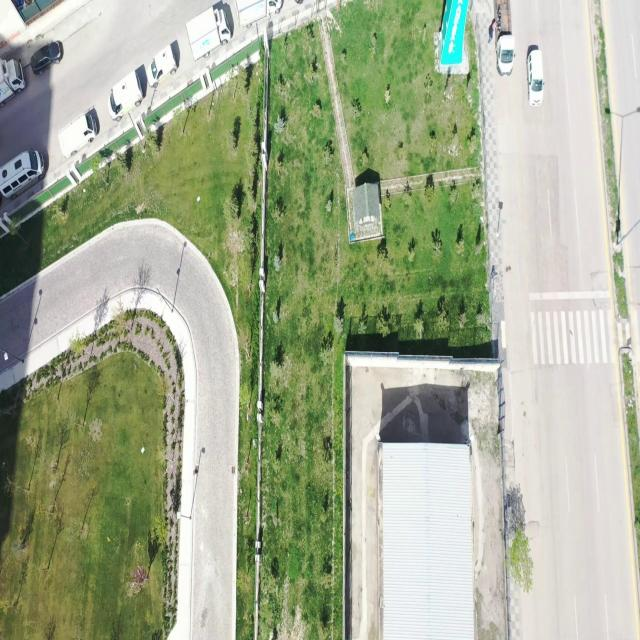p3rson: (488, 24, 494, 46)
